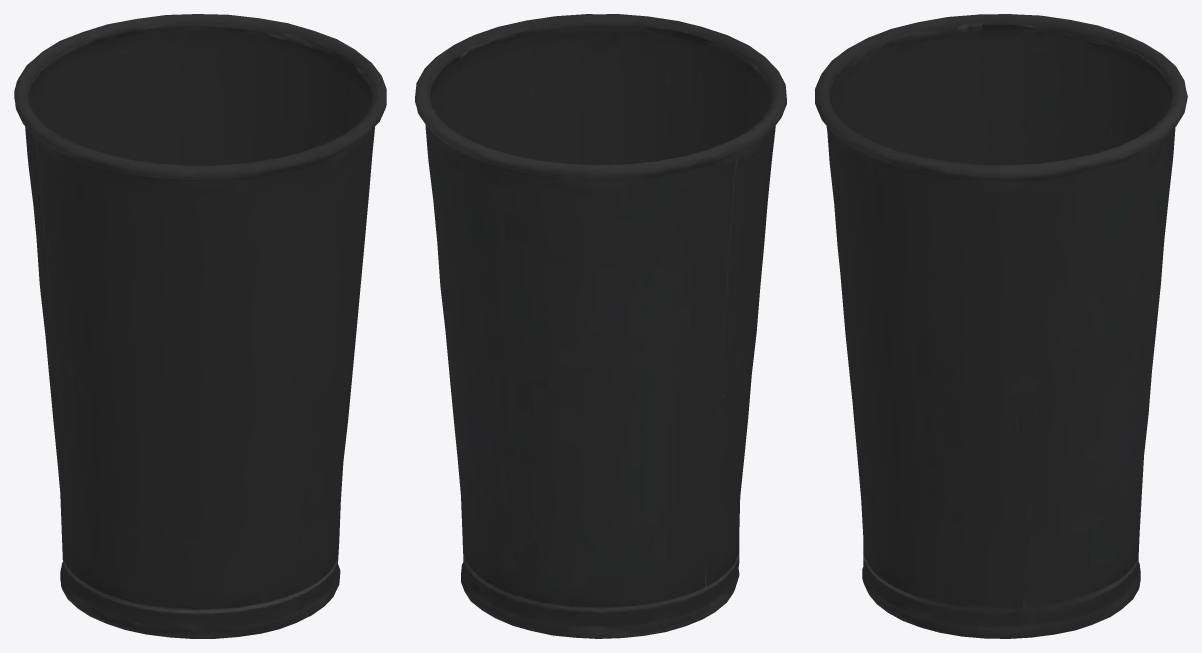
Rendered from wastebasket.glb.
3 renders of one model, left to right at view 1: azimuth 30°, elevation 25°; view 2: azimuth 150°, elevation 25°; view 3: azimuth 270°, elevation 25°, orthographic.
Parts seen in each view (by area): view 1: Mesh_0; view 2: Mesh_0; view 3: Mesh_0.
Boxes of the visible parts, x1=… form: Mesh_0: x1=14, y1=14, x2=386, y2=638; Mesh_0: x1=415, y1=14, x2=786, y2=638; Mesh_0: x1=815, y1=14, x2=1187, y2=638.
Bounding box in the file's own units: 0.2762 × 0.4064 × 0.2771.
1 material, 1 textured.
